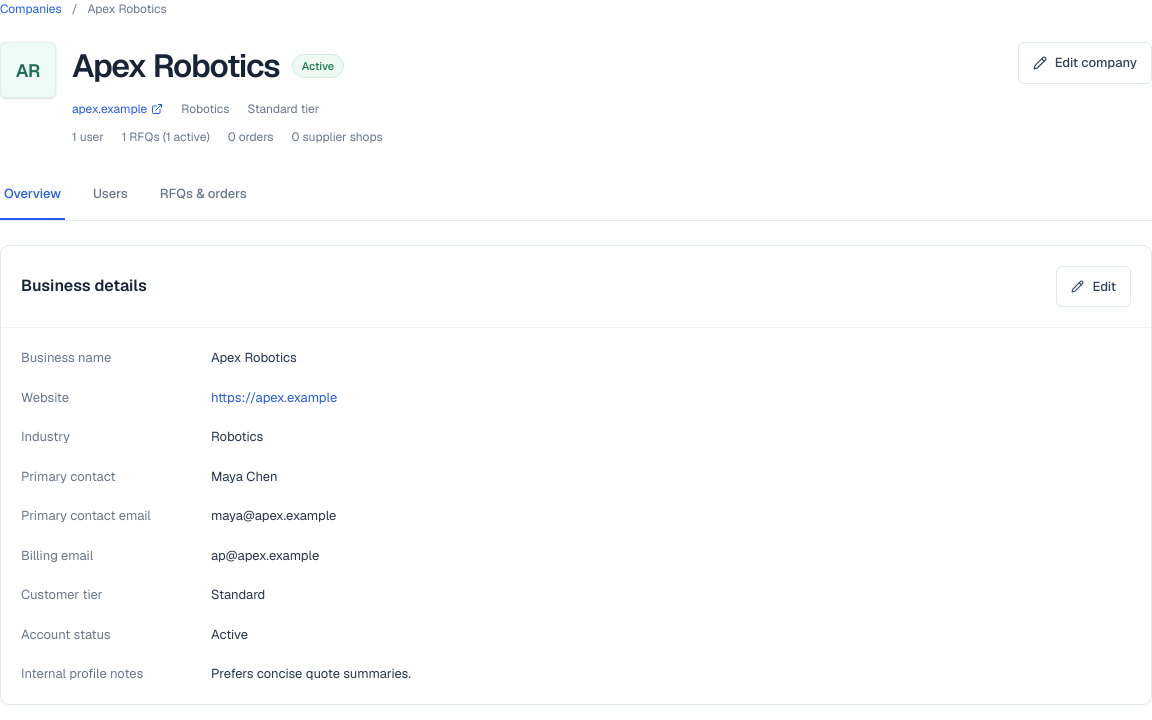
Scenario: AdminCustomerManagement › shows the customer's attached RFQ and order information on the profile page
The width and height of the screenshot is (1152, 720).
Check: the heading "Business details" is shown, box [21,274,147,298]
Click the tab "RFQs & orders" at (203, 195), box [156,170,251,220]
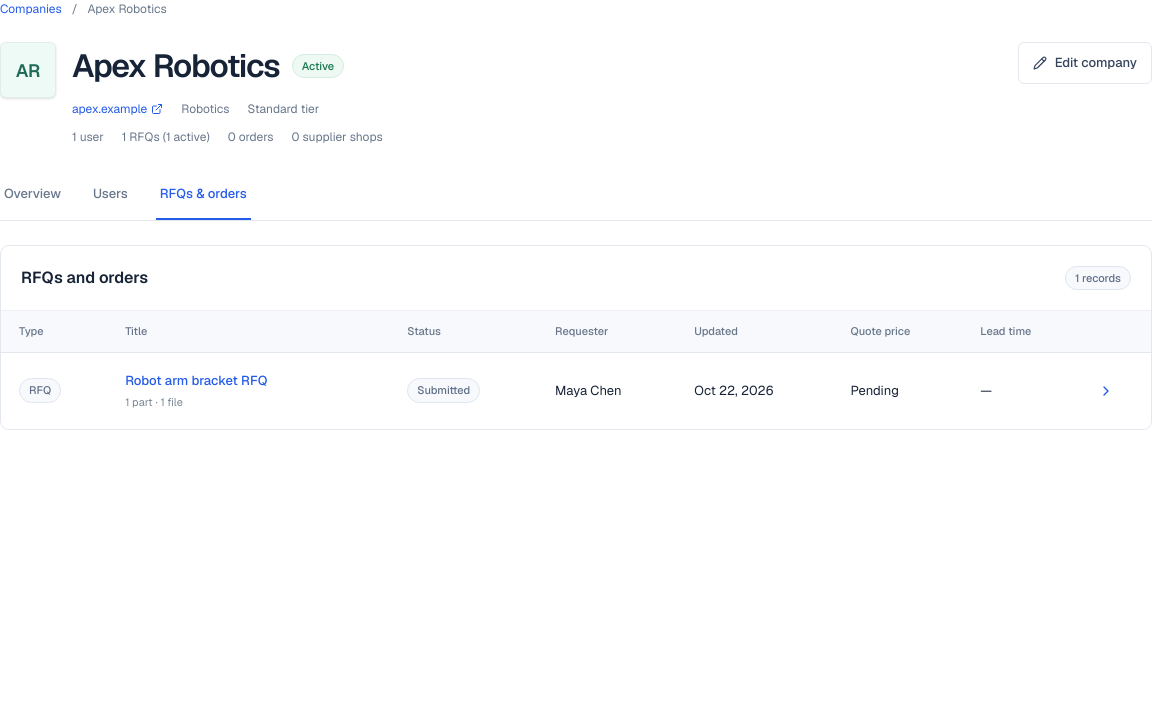
Check: the heading "RFQs and orders" is shown, box [21,266,148,290]
Click the button "Edit company" at (1085, 63), box [1018,42,1151,84]
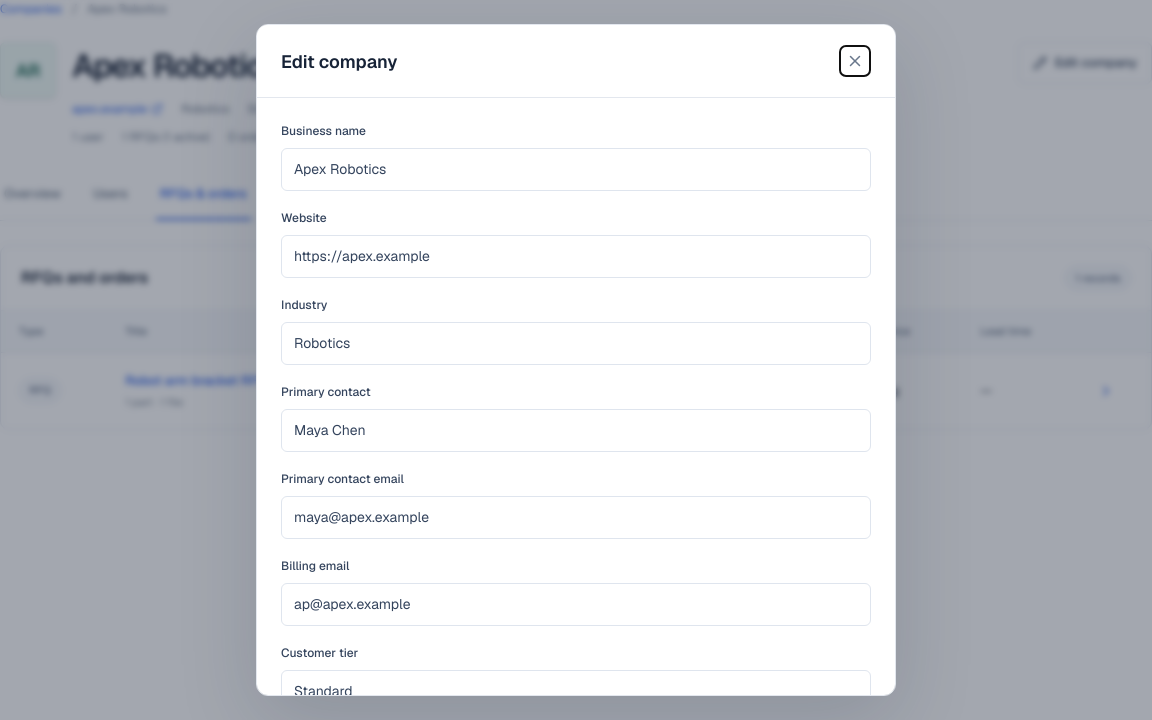
Check: the dialog "Edit company" is shown, box [256,24,896,696]
Check: the field labelled "Business name" holds "Apex Robotics", box [281,148,871,191]
